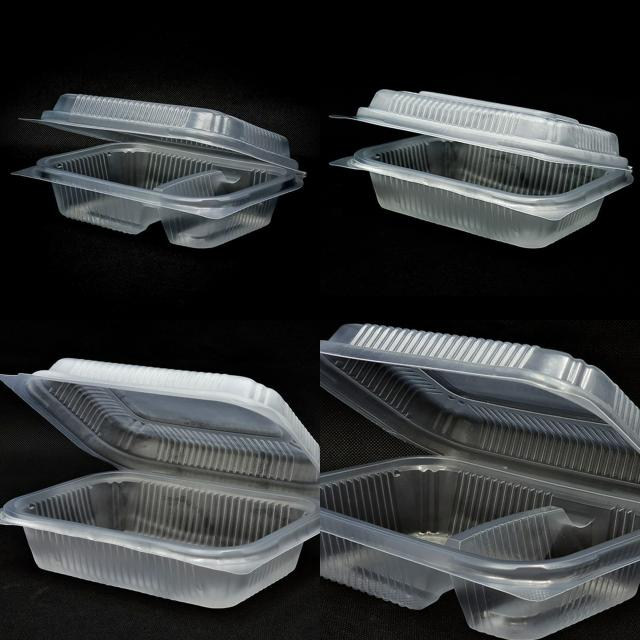Single-Use-Plastic: (320, 325, 640, 640), (0, 359, 320, 608), (331, 90, 632, 248), (15, 94, 305, 248)
